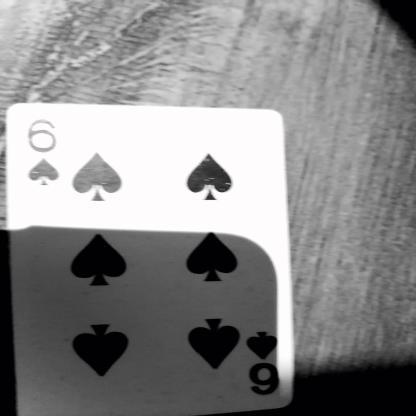6S: (240, 320, 291, 408), (14, 113, 66, 194)
